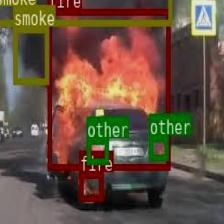fire: (48, 8, 170, 170), (79, 172, 103, 200)
smoke: (0, 0, 171, 24), (13, 26, 48, 83)
